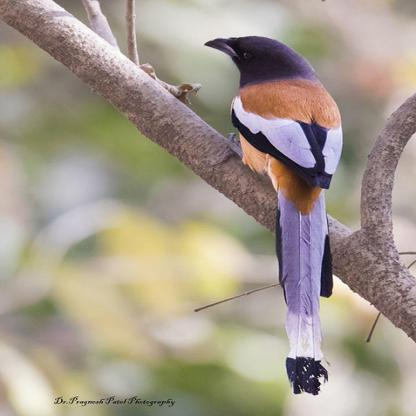Burung: (203, 36, 343, 395)
